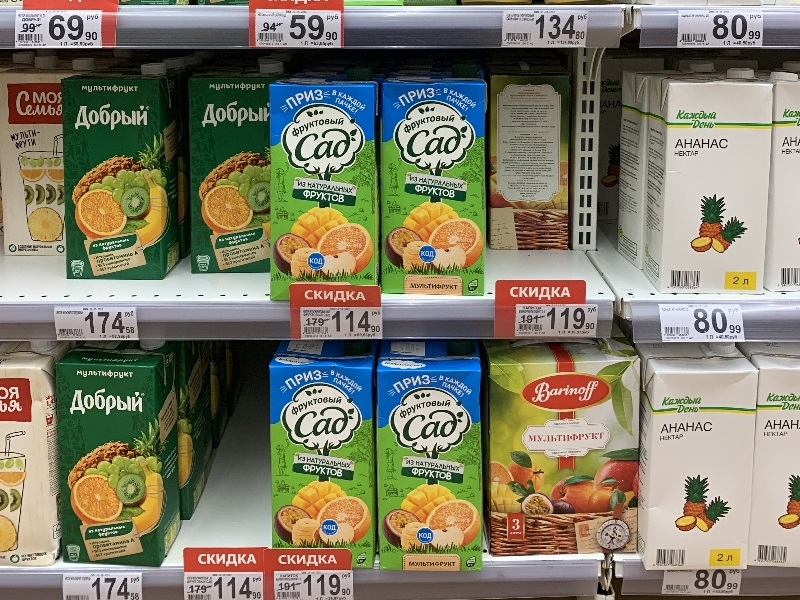juice: (49, 61, 189, 288), (52, 339, 189, 570), (371, 338, 495, 580), (257, 341, 388, 563), (266, 69, 390, 289), (382, 68, 493, 306)
